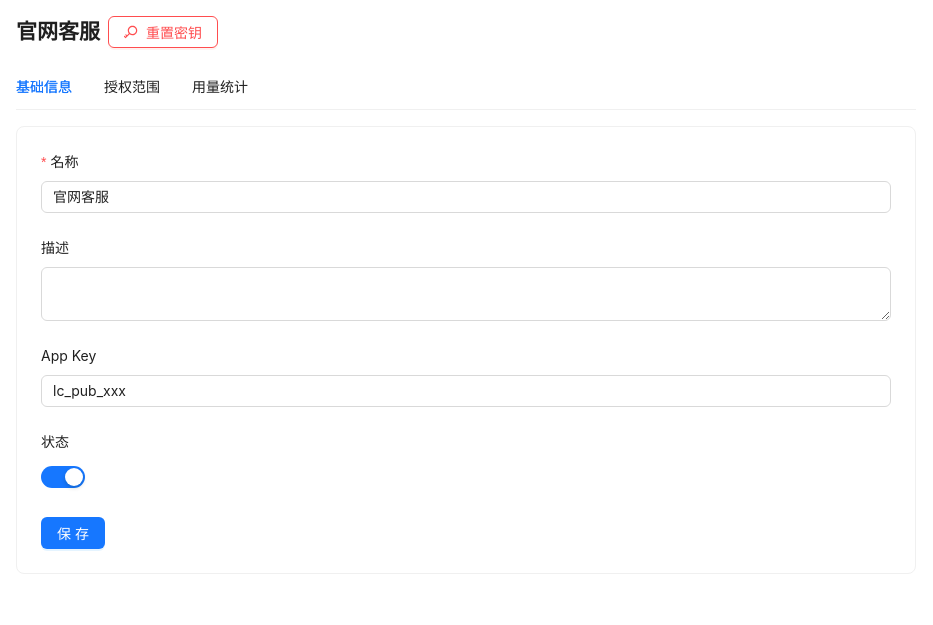
Test case: ExternalAppDetailPage — agent/team whitelist › loads agent and team options on mount and renders 2 multi-Selects in the scope tab
This screenshot has width=933, height=625.
What coordinates should you click on to do the following:
click the tab "授权范围"
I would click on:
 (132, 87)
Its box is [104,76,160,98].
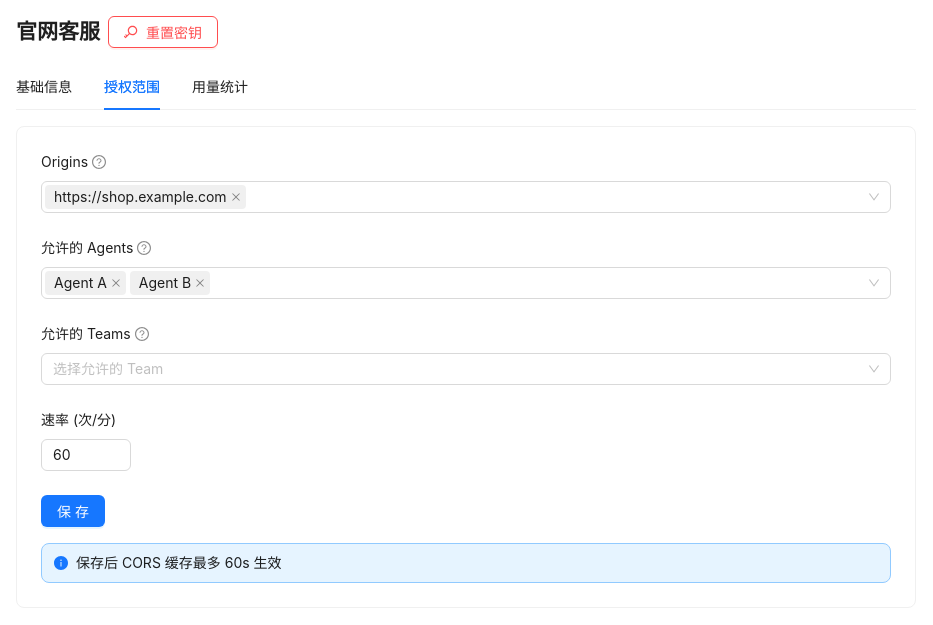
Now the search field "允许的 Agents" is shown, box [41,237,166,259]
Now the search field "允许的 Teams" is shown, box [41,323,163,345]
